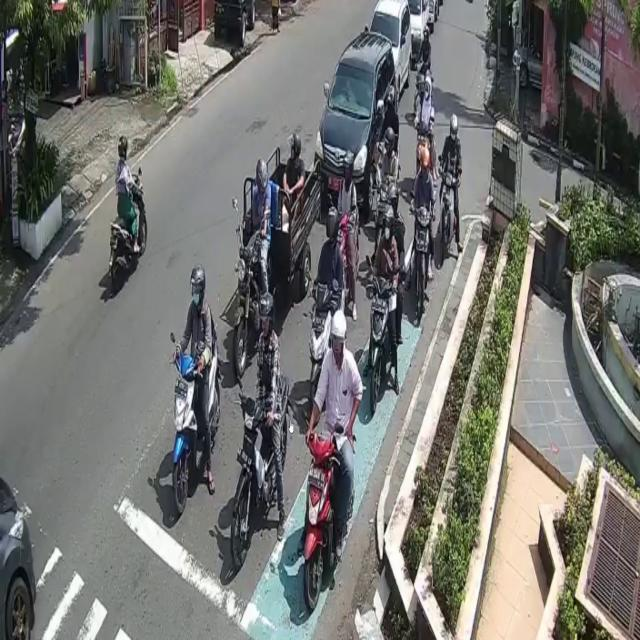bus: (230, 376, 290, 572), (172, 327, 221, 517), (304, 430, 342, 616), (232, 246, 273, 367), (109, 173, 148, 292), (306, 285, 328, 418), (371, 266, 392, 399), (413, 202, 435, 323), (440, 171, 457, 263)
motorcycle: (314, 30, 396, 216), (369, 0, 412, 91)
